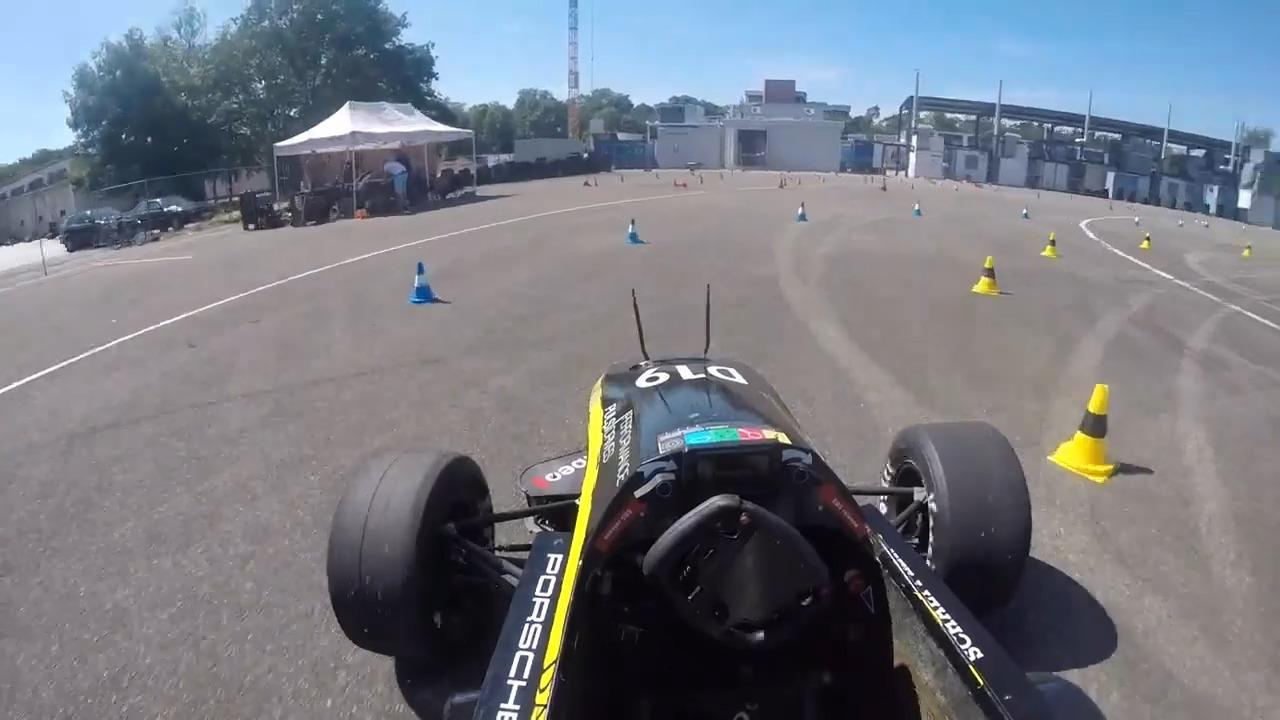blue_cone: (405, 262, 440, 305), (616, 216, 646, 243), (788, 196, 813, 223)
yellow_cone: (1056, 382, 1120, 478), (971, 251, 1006, 297), (1043, 228, 1059, 268), (1141, 233, 1154, 254)
